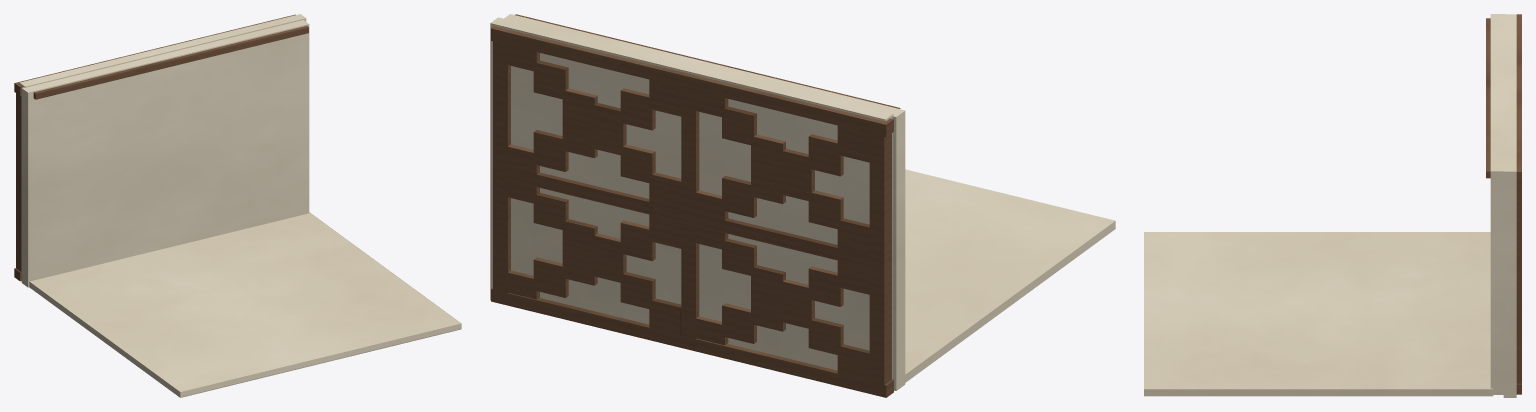
Rendered from med_wall.glb.
3 renders of one model, left to right at view 1: azimuth 30°, elevation 25°; view 2: azimuth 150°, elevation 25°; view 3: azimuth 270°, elevation 25°, orthographic. The views are drawn at different scales.
Parts seen in each view (by area): view 1: med_wall; view 2: med_wall; view 3: med_wall.
Part boxes in pixels (x1=…): med_wall: x1=14, y1=14, x2=461, y2=397; med_wall: x1=490, y1=14, x2=1115, y2=397; med_wall: x1=1144, y1=14, x2=1521, y2=397.
Bounding box in the file's own units: 4.04 × 2.68 × 4.06.
1 material, 1 textured.
